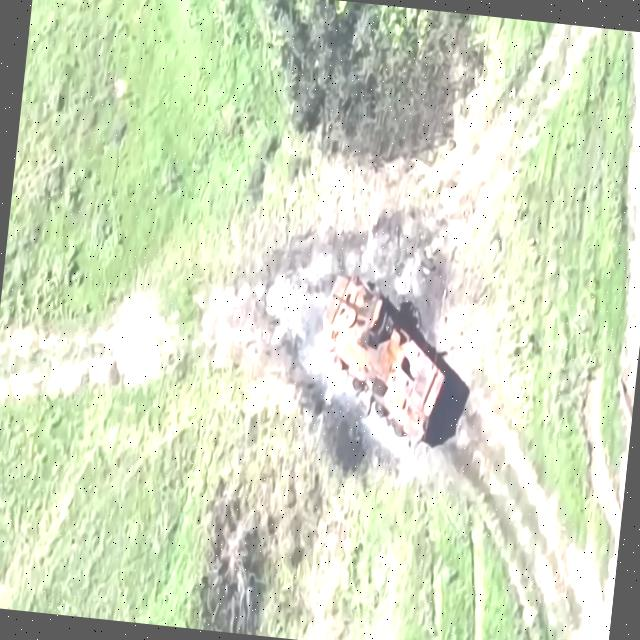APC: (310, 271, 455, 446)
